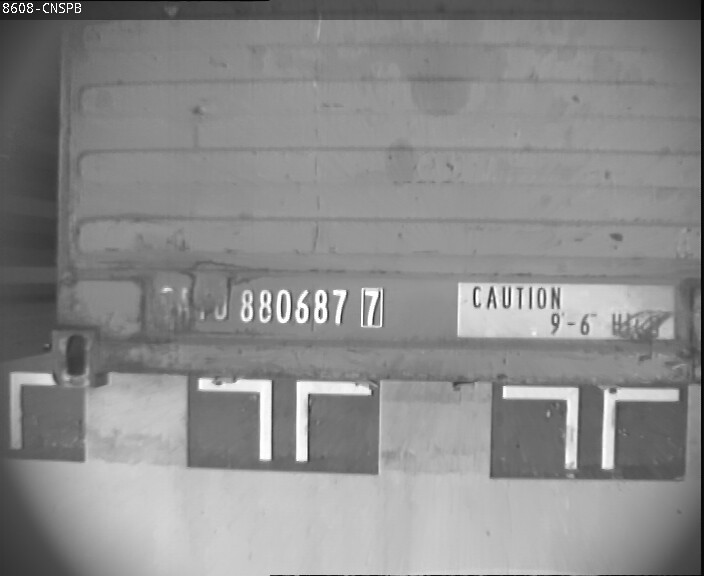groundmarker_1: (198, 377, 370, 461), (502, 385, 678, 467)
